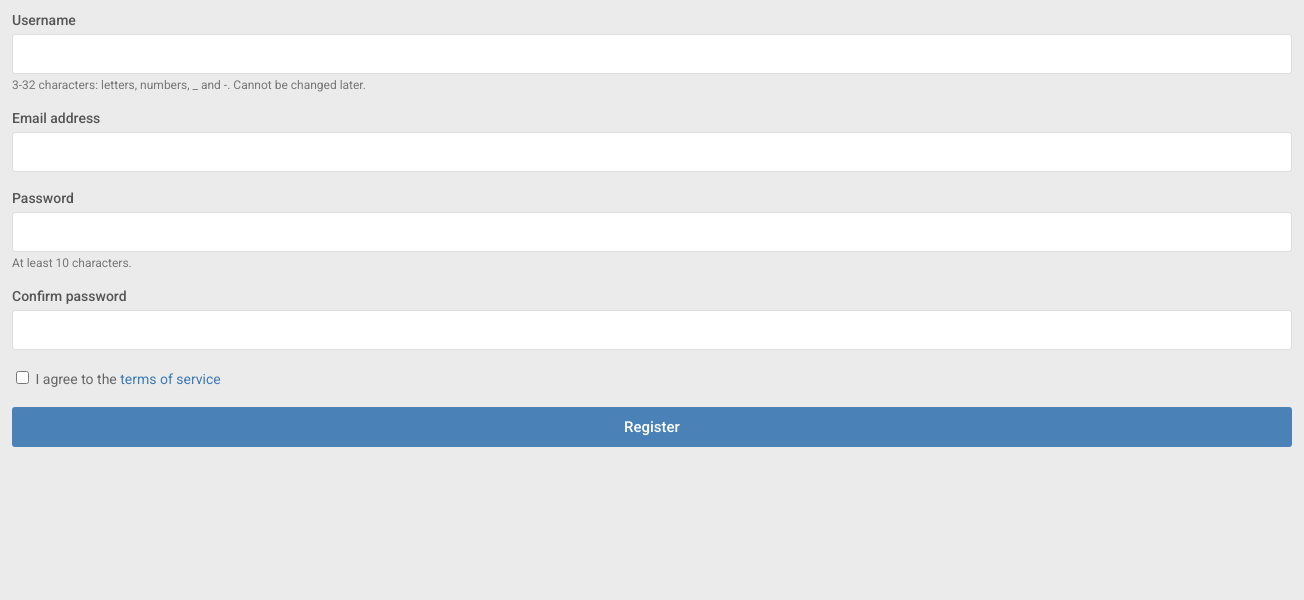
Test: shows server field errors (username_taken, email_taken)
Type "alice" into the field labelled "Username" at {"x": 652, "y": 54}, box [12, 34, 1292, 74]
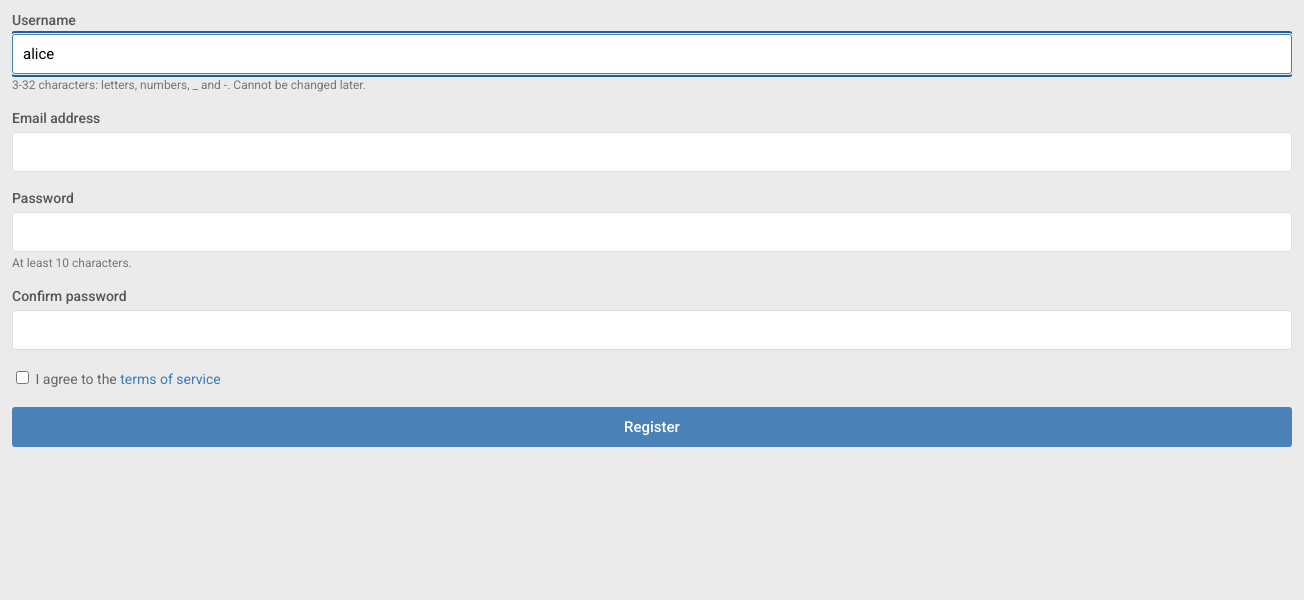
Type "a@example.com" into the field labelled "Email address" at {"x": 652, "y": 152}, box [12, 132, 1292, 172]
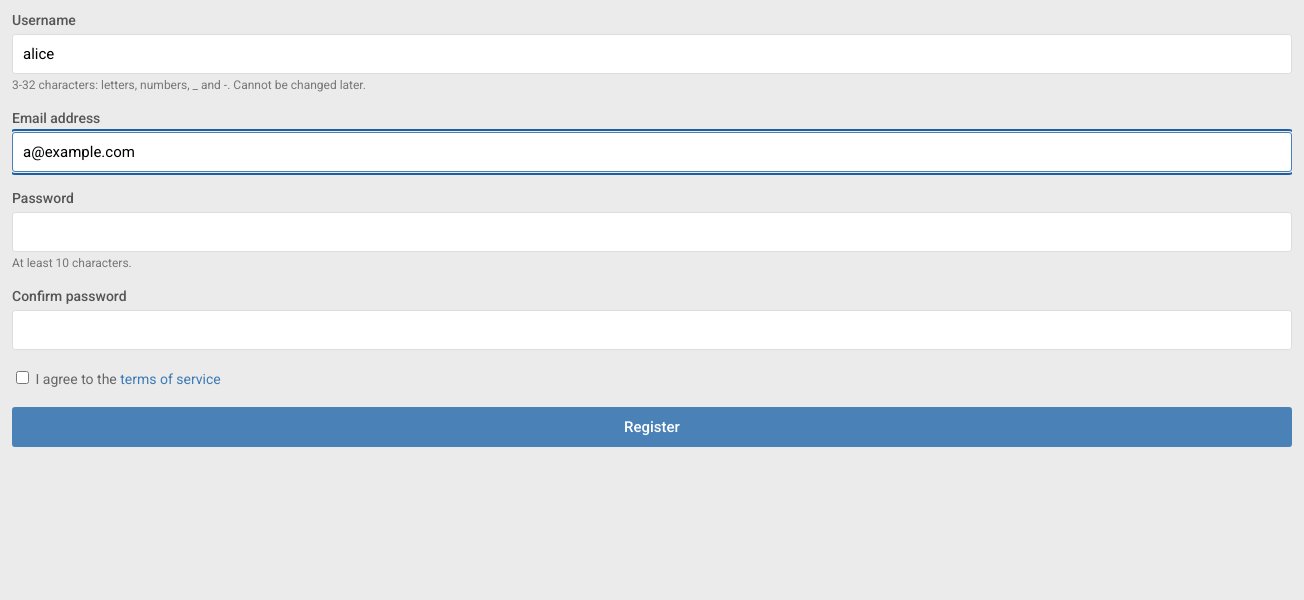
Type "correct horse battery" into the password field labelled "Password" at {"x": 652, "y": 232}, box [12, 212, 1292, 252]
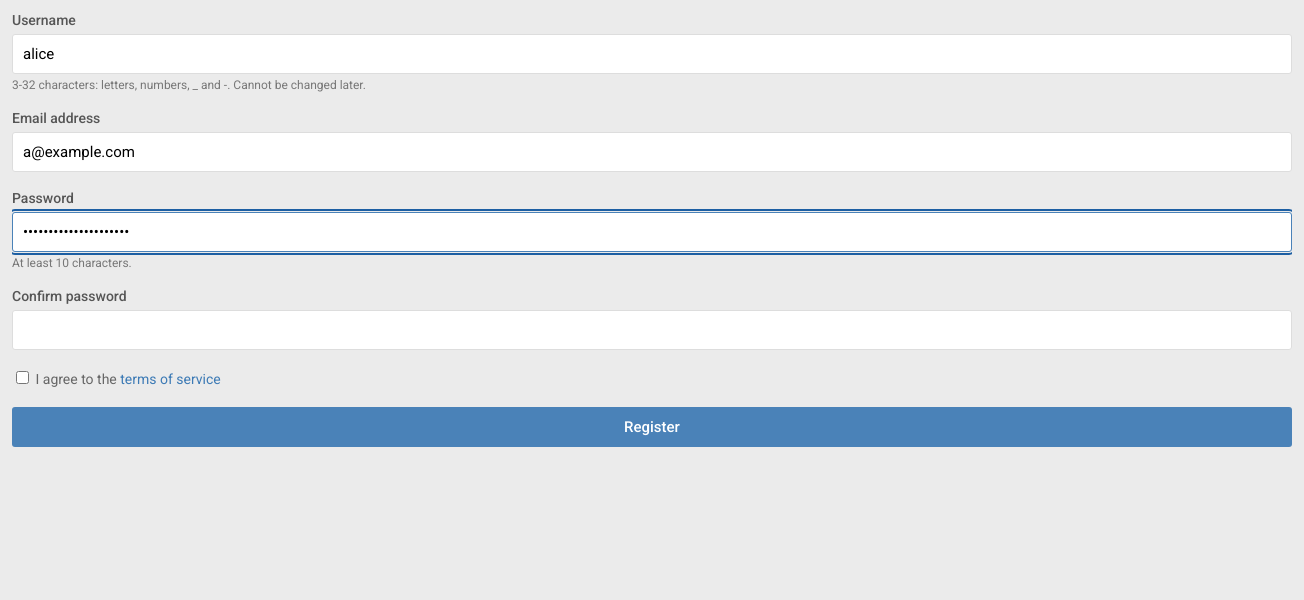
Type "correct horse battery" into the password field labelled "Confirm password" at {"x": 652, "y": 330}, box [12, 310, 1292, 350]
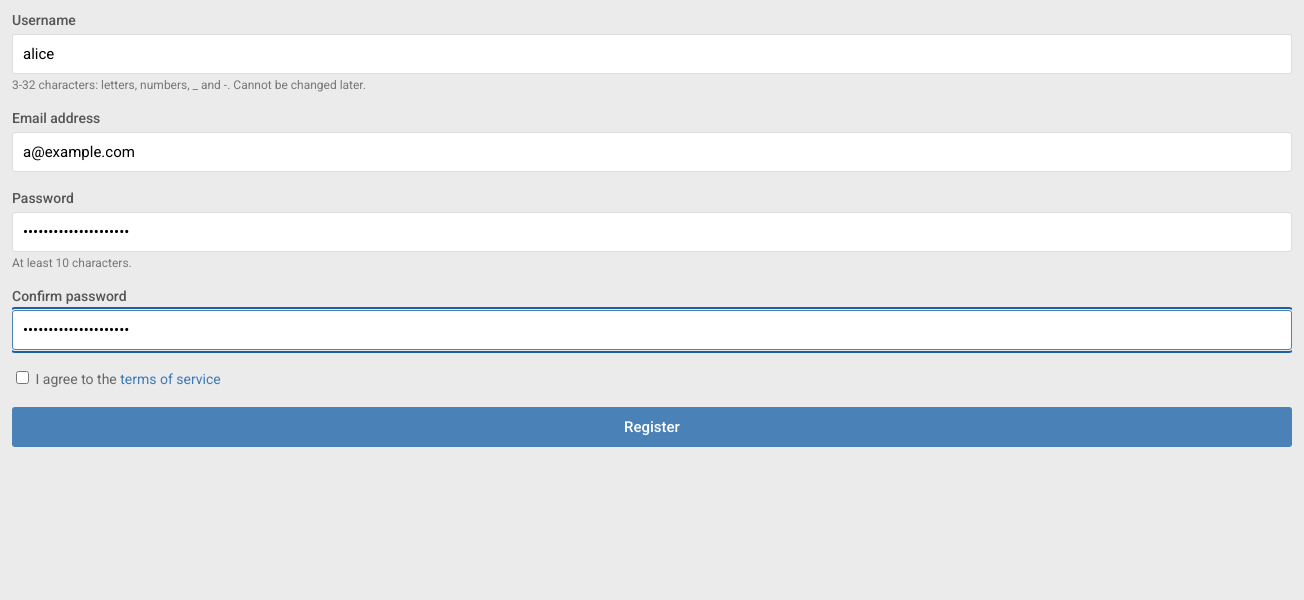
Click the checkbox labelled "I agree to the terms of service" at {"x": 22, "y": 378}, box [16, 371, 29, 384]
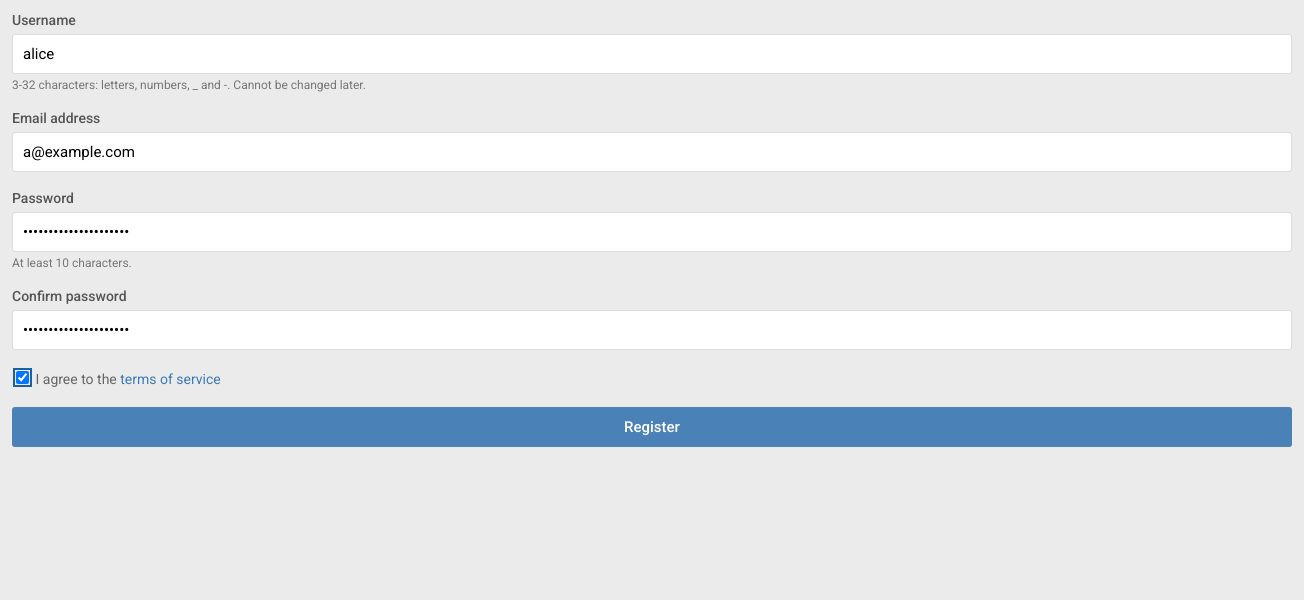
Click the button "Register" at {"x": 652, "y": 427}, box [12, 407, 1292, 447]
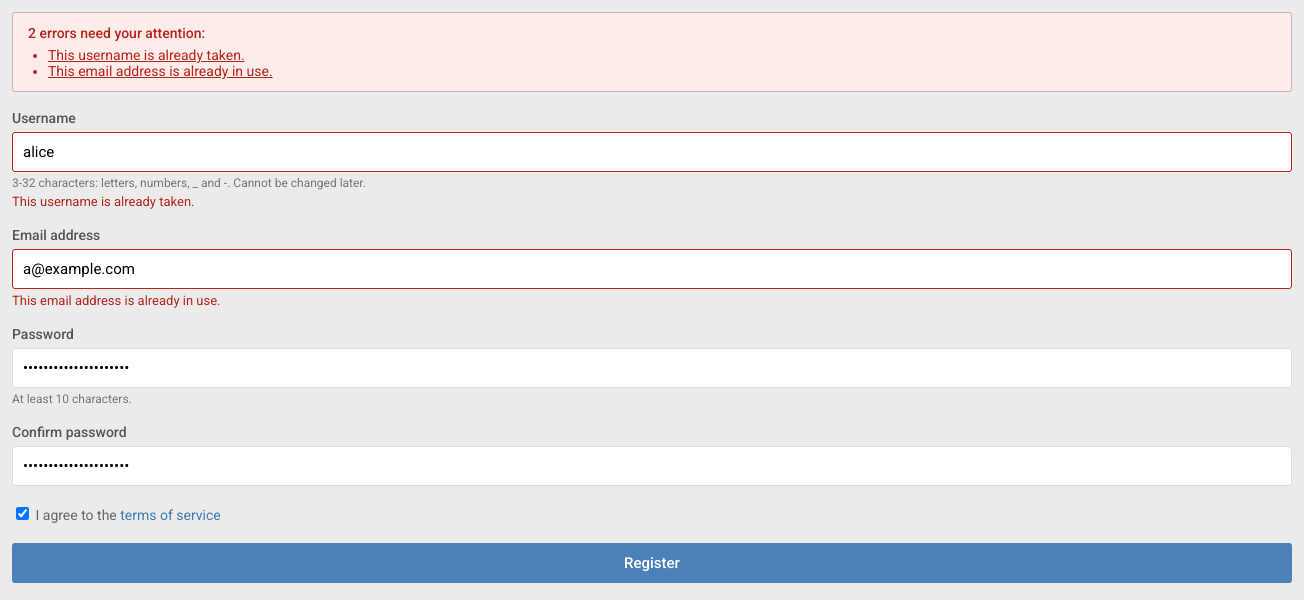
Expected: the link "This email address is already in use." is shown, [48, 63, 273, 79]
